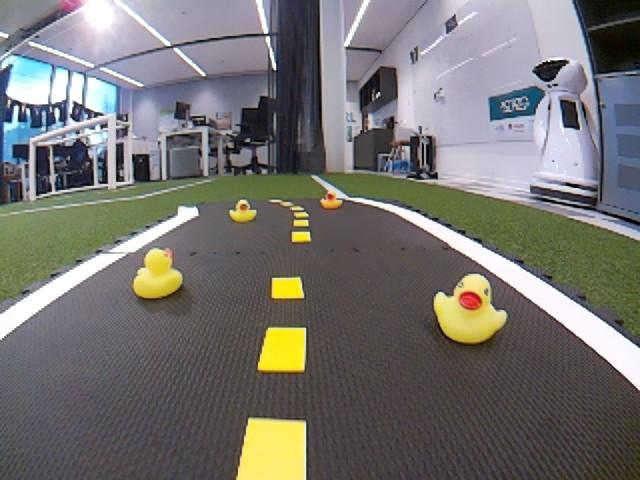Duckies: (432, 274, 507, 346), (133, 248, 183, 299), (230, 200, 258, 223), (319, 191, 339, 208)
